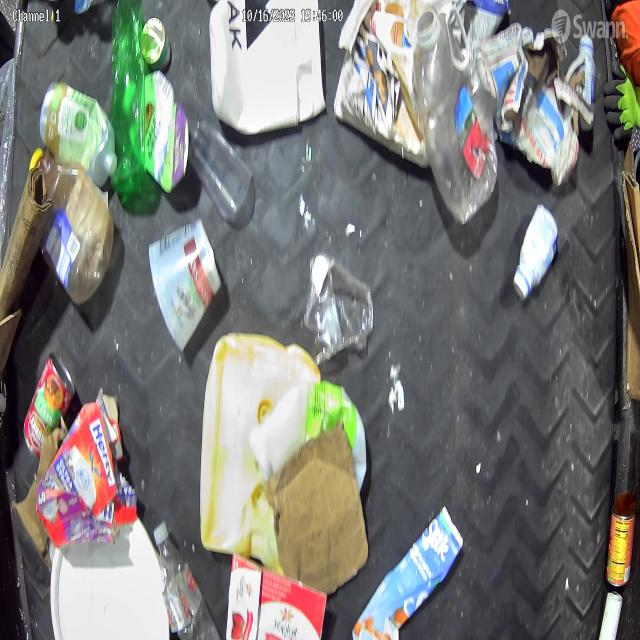can: (22, 350, 78, 457), (141, 16, 172, 71)
milk_jug: (208, 0, 326, 138), (249, 376, 367, 495)
non_white_jug: (200, 329, 322, 568)
plastic_bottle: (414, 8, 498, 226), (153, 519, 223, 640)
